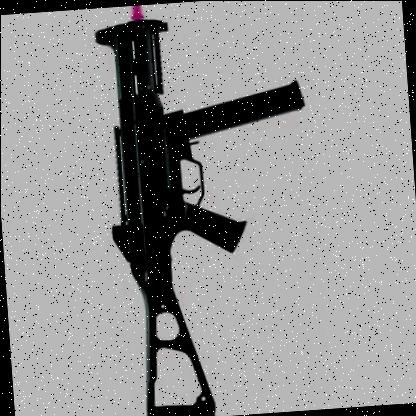rifle: (70, 0, 332, 416)
